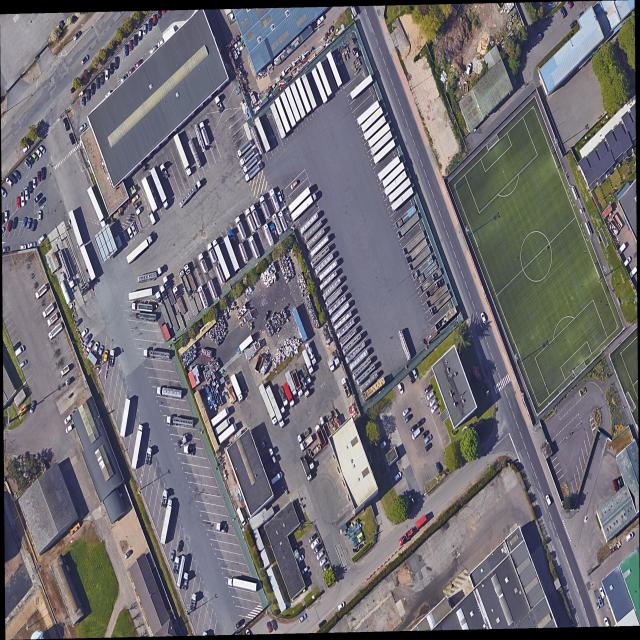large-vehicle: (257, 382, 279, 428), (265, 383, 286, 431), (211, 238, 232, 283), (149, 165, 170, 210), (206, 242, 226, 288), (159, 285, 179, 331), (399, 514, 427, 545), (86, 186, 106, 228), (173, 133, 192, 176), (290, 192, 317, 221), (126, 236, 152, 265), (253, 116, 272, 155), (381, 161, 406, 190), (325, 50, 343, 90), (300, 71, 318, 111), (269, 102, 287, 142), (384, 169, 408, 199), (315, 60, 333, 99), (289, 81, 307, 120), (274, 96, 292, 135), (388, 177, 412, 206), (377, 155, 401, 184), (279, 91, 297, 129), (155, 291, 172, 331), (350, 74, 374, 102), (434, 306, 458, 334), (373, 138, 396, 167), (363, 115, 387, 142), (402, 230, 426, 257), (227, 229, 244, 267), (311, 67, 328, 105), (295, 77, 312, 115), (284, 86, 301, 124), (357, 100, 380, 128), (361, 106, 384, 134), (419, 267, 442, 295), (408, 245, 431, 273), (405, 238, 428, 266), (394, 204, 417, 232), (391, 186, 414, 214), (370, 130, 393, 158), (368, 122, 391, 149), (179, 181, 201, 209), (426, 283, 448, 311), (398, 212, 420, 240), (141, 177, 158, 213), (411, 255, 434, 281), (429, 291, 451, 318), (424, 275, 446, 301), (417, 260, 439, 286), (136, 265, 163, 286), (352, 355, 373, 382), (310, 243, 331, 270), (299, 211, 320, 237), (355, 362, 376, 388), (330, 300, 351, 326), (322, 276, 343, 302), (318, 258, 339, 284), (309, 234, 330, 260), (397, 329, 413, 363), (160, 499, 172, 544), (161, 274, 177, 307), (217, 421, 238, 446), (359, 370, 380, 395), (349, 348, 370, 373), (345, 340, 366, 365), (318, 269, 339, 294), (314, 252, 334, 278), (171, 285, 187, 317), (229, 373, 245, 405), (132, 424, 143, 470), (210, 405, 231, 429), (342, 333, 363, 357), (303, 219, 323, 244), (306, 227, 326, 252), (327, 293, 347, 318), (325, 285, 345, 310), (333, 309, 353, 333), (271, 385, 286, 416), (166, 414, 195, 430), (337, 317, 356, 341), (297, 369, 311, 400), (299, 454, 313, 484), (188, 139, 202, 169), (340, 326, 358, 349), (258, 194, 272, 223), (284, 369, 298, 398), (282, 380, 296, 409), (228, 578, 257, 592), (156, 385, 183, 400), (247, 234, 261, 262), (234, 215, 248, 243), (244, 207, 258, 235), (183, 265, 197, 293), (120, 398, 130, 437), (313, 422, 327, 449), (301, 347, 314, 376), (291, 369, 304, 398), (262, 222, 275, 250), (197, 284, 210, 312), (214, 416, 231, 437), (46, 322, 63, 343), (249, 203, 262, 230), (268, 187, 281, 214), (176, 555, 186, 590), (271, 212, 284, 238), (237, 335, 253, 355), (245, 163, 261, 183), (242, 155, 258, 175), (197, 252, 210, 276), (194, 124, 205, 152), (340, 375, 352, 400), (143, 349, 170, 360), (301, 363, 313, 387), (277, 384, 289, 408), (299, 434, 314, 453), (240, 148, 255, 167), (237, 140, 252, 159), (33, 283, 48, 302), (41, 302, 55, 322), (260, 445, 274, 465), (277, 210, 289, 233), (305, 342, 317, 365), (199, 122, 210, 147), (296, 427, 311, 445), (263, 454, 277, 473), (304, 449, 315, 472), (179, 270, 190, 293), (135, 312, 157, 323), (131, 302, 153, 313), (46, 311, 59, 329), (158, 163, 169, 182), (256, 438, 269, 454), (59, 363, 71, 379), (181, 571, 190, 592), (177, 434, 188, 450), (161, 488, 169, 509), (145, 445, 153, 466), (331, 350, 340, 368), (189, 592, 197, 612), (173, 555, 181, 575), (183, 445, 197, 456), (108, 348, 116, 367), (216, 523, 228, 533)
small-vehicle: (270, 470, 283, 486), (12, 339, 23, 353), (83, 332, 93, 347), (15, 344, 25, 359), (62, 117, 71, 133), (411, 427, 421, 441), (18, 357, 28, 371), (617, 242, 627, 256), (628, 266, 638, 280), (122, 228, 131, 243), (63, 412, 72, 427), (249, 91, 258, 106), (298, 612, 308, 625), (423, 441, 433, 454), (416, 416, 426, 429), (401, 406, 411, 419), (34, 146, 43, 160), (625, 530, 634, 544), (276, 190, 284, 205), (408, 370, 416, 385), (126, 225, 134, 240), (130, 221, 138, 236), (29, 400, 37, 415), (234, 618, 244, 630), (80, 326, 89, 339), (75, 316, 84, 329), (394, 470, 403, 483), (424, 432, 433, 445), (421, 427, 430, 440), (404, 412, 413, 425), (296, 552, 305, 565), (64, 423, 73, 436), (80, 54, 89, 67), (27, 153, 36, 166), (310, 538, 319, 551), (430, 402, 439, 415), (86, 340, 94, 354), (479, 310, 487, 324), (544, 493, 552, 507), (270, 618, 278, 632), (68, 132, 76, 146), (316, 14, 326, 25), (409, 423, 418, 435), (337, 600, 346, 612), (20, 190, 26, 208), (78, 122, 87, 134), (623, 256, 632, 268), (294, 539, 303, 551), (9, 174, 18, 186), (124, 549, 133, 561), (93, 340, 100, 355), (38, 144, 47, 155), (149, 44, 158, 55), (134, 58, 143, 69), (308, 533, 317, 544), (313, 544, 322, 555), (12, 170, 21, 181), (23, 159, 32, 170), (435, 460, 442, 474), (612, 479, 619, 493), (536, 27, 543, 41), (559, 5, 566, 19), (12, 217, 19, 231), (6, 219, 13, 233), (31, 151, 39, 163), (24, 186, 30, 202), (73, 30, 81, 42), (131, 193, 139, 205), (603, 616, 610, 629), (30, 219, 37, 232), (397, 382, 404, 395), (16, 195, 22, 210), (426, 391, 435, 401), (321, 563, 330, 573), (570, 19, 578, 30), (303, 570, 311, 581), (290, 180, 298, 191), (22, 143, 30, 154), (424, 384, 432, 395), (429, 397, 437, 408), (38, 234, 46, 245), (5, 177, 13, 188), (103, 349, 109, 363), (599, 587, 606, 599), (466, 62, 472, 76), (576, 11, 584, 21), (316, 551, 324, 561), (34, 193, 42, 203), (136, 206, 144, 216), (134, 200, 142, 210), (597, 595, 603, 608), (617, 476, 623, 489), (266, 621, 272, 634), (177, 540, 183, 553), (124, 43, 129, 58), (114, 56, 119, 71), (109, 61, 114, 76), (28, 180, 33, 195), (98, 345, 104, 357), (412, 367, 418, 379), (127, 67, 135, 76), (319, 558, 327, 567), (26, 218, 32, 230), (22, 217, 28, 229), (104, 68, 109, 82), (90, 83, 95, 97), (27, 242, 37, 249), (147, 19, 152, 32), (133, 34, 138, 47), (170, 550, 175, 563), (157, 39, 164, 48), (301, 566, 308, 575), (120, 74, 127, 83), (38, 197, 45, 206), (152, 15, 157, 27), (32, 176, 37, 188), (142, 24, 147, 36), (86, 88, 90, 103), (81, 96, 86, 108), (129, 39, 133, 52), (100, 72, 104, 85), (96, 77, 100, 90), (38, 209, 42, 222), (37, 171, 41, 184), (41, 168, 45, 181), (138, 30, 142, 42), (19, 244, 27, 250), (4, 211, 8, 222)
